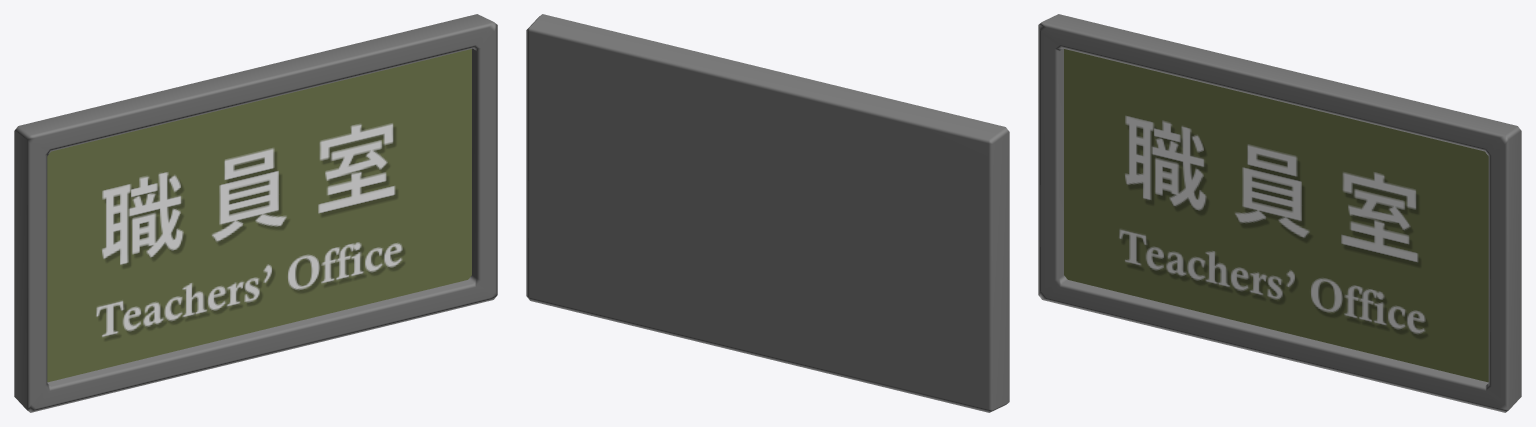
The model's file is SM_sign_teachersoffice.fbx.
3 renders of one model, left to right at view 1: azimuth 30°, elevation 25°; view 2: azimuth 150°, elevation 25°; view 3: azimuth 330°, elevation 25°, orthographic.
Visible parts, largest first — view 1: sign_roomname03; view 2: sign_roomname03; view 3: sign_roomname03.
Boxes of the visible parts, box(x1,y1,x2,y2) form: sign_roomname03: box(14, 14, 497, 412); sign_roomname03: box(526, 14, 1009, 412); sign_roomname03: box(1038, 14, 1521, 412).
Bounding box in the file's own units: 28.58 × 16.13 × 1.67.
2 materials, 1 textured.
